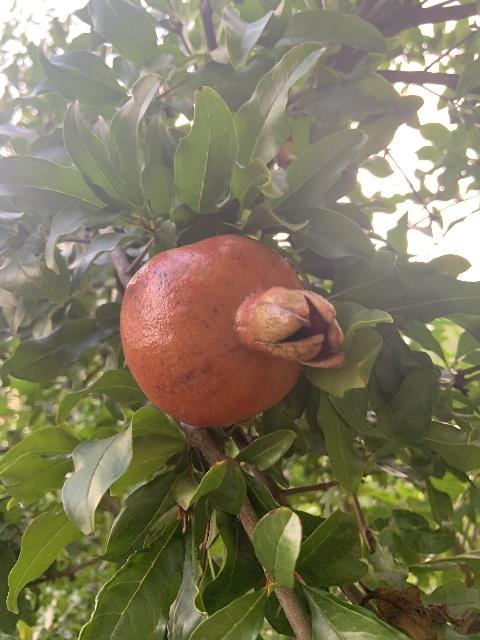ripe: (120, 235, 344, 426)
